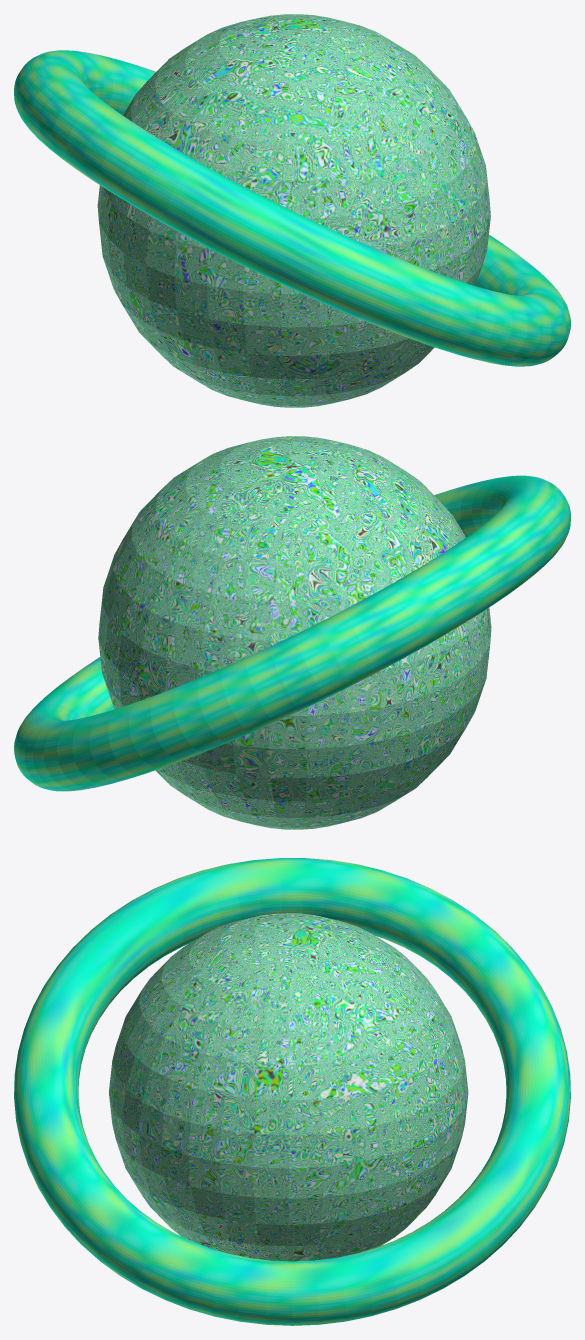
The model's file is saturn.glb.
3 views of the same model, one above another, from view 1: azimuth 30°, elevation 25°; view 2: azimuth 150°, elevation 25°; view 3: azimuth 270°, elevation 25° (orthographic). The views are drawn at different scales.
Parts seen in each view (by area): view 1: Sphere.001, Torus.001; view 2: Sphere.001, Torus.001; view 3: Sphere.001, Torus.001.
Boxes of the visible parts, x1,y1,x2,y2 form: Sphere.001: (97, 14, 490, 407); Torus.001: (14, 50, 570, 366); Sphere.001: (98, 436, 491, 829); Torus.001: (14, 475, 570, 791); Sphere.001: (109, 913, 468, 1261); Torus.001: (14, 858, 570, 1325).
Bounding box in the file's own units: 13.62 × 9.98 × 15.45.
3 materials, 2 textured.
